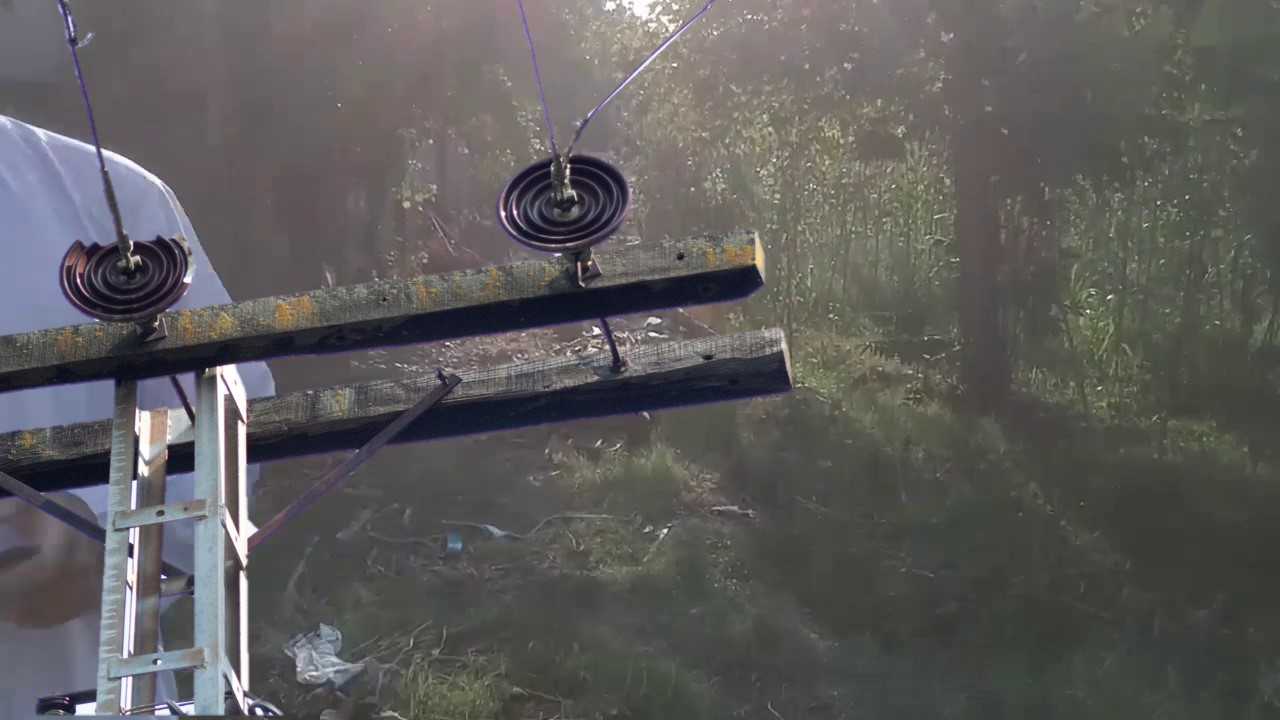defect_disc: (58, 221, 198, 323)
insulator_disc: (495, 150, 635, 256)
